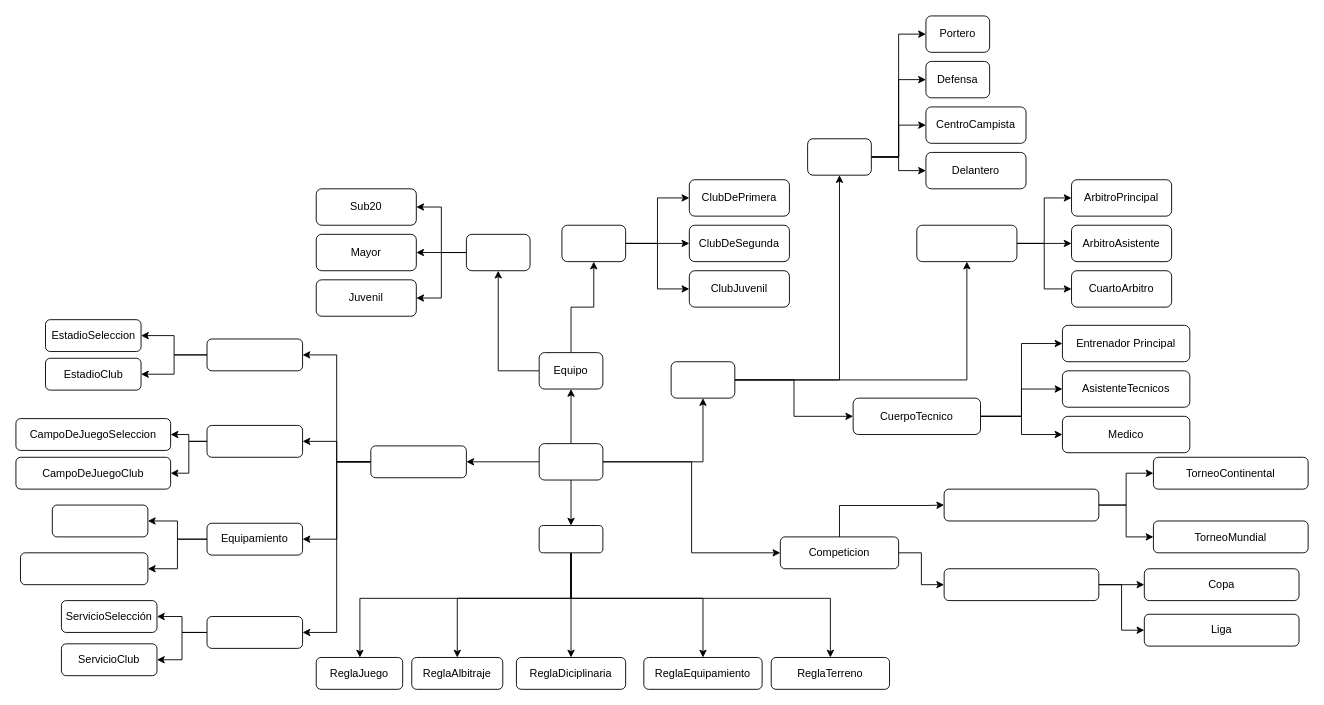
Some shapes in this 1324 by 705 pixel diagram are drawn without their labels. Here are the shapes that lost their labels. From the top down, the box of each, then its label:
(807, 138, 871, 175): Jugador
(465, 233, 530, 271): Seleccion
(561, 224, 626, 262): Club
(916, 224, 1017, 262): Arbitro
(206, 338, 303, 371): Estadio
(670, 361, 735, 398): Persona
(206, 425, 303, 457): CampoDeJuego
(370, 445, 466, 478): Infraestructura
(538, 443, 603, 480): Futbol
(51, 504, 148, 537): EquipamientoClub
(943, 488, 1099, 521): CompeticionInternacional
(538, 525, 603, 553): Regla
(20, 552, 148, 585): EquipamientoSeleccion
(943, 568, 1099, 601): CompeticionNacional
(206, 616, 303, 648): Servicios
